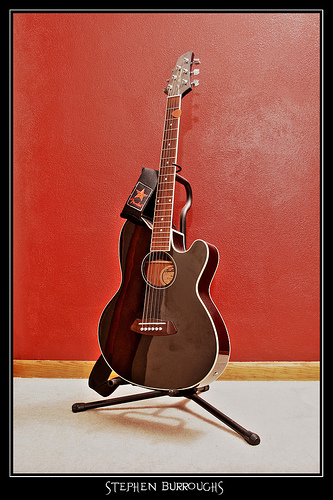guitar: (98, 51, 232, 393)
